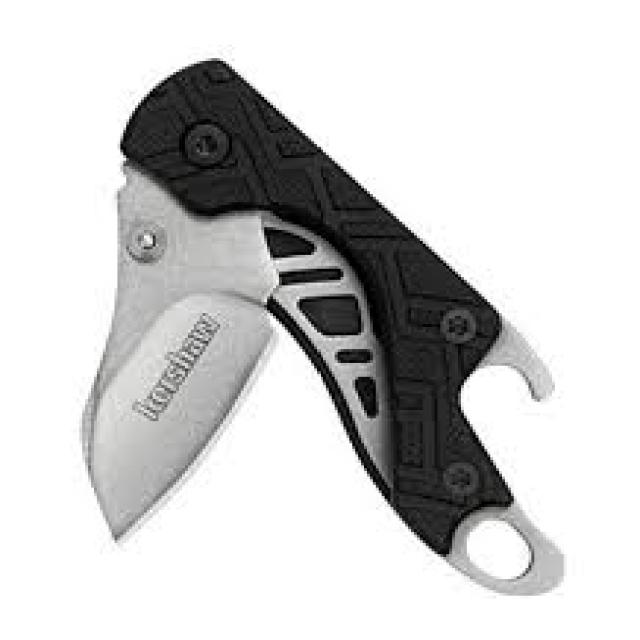knives: (76, 53, 570, 601)
